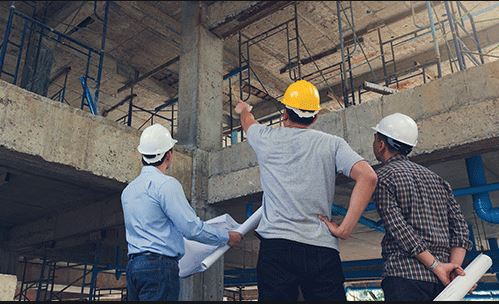Safety Helmet: (358, 104, 427, 168), (274, 70, 327, 140), (129, 120, 183, 181)
